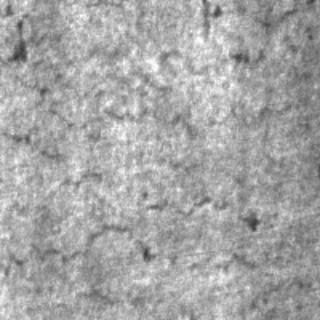crazing: (0, 165, 252, 273), (18, 38, 230, 146), (197, 0, 301, 68)
